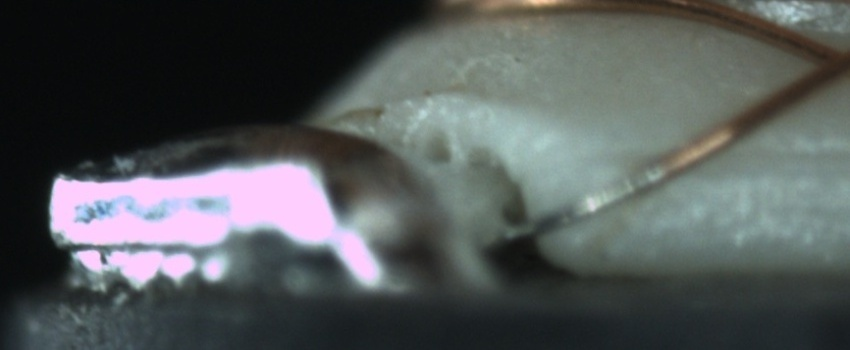CL: (797, 32, 849, 90)
DL: (690, 119, 844, 190)
TS: (495, 162, 667, 244)
